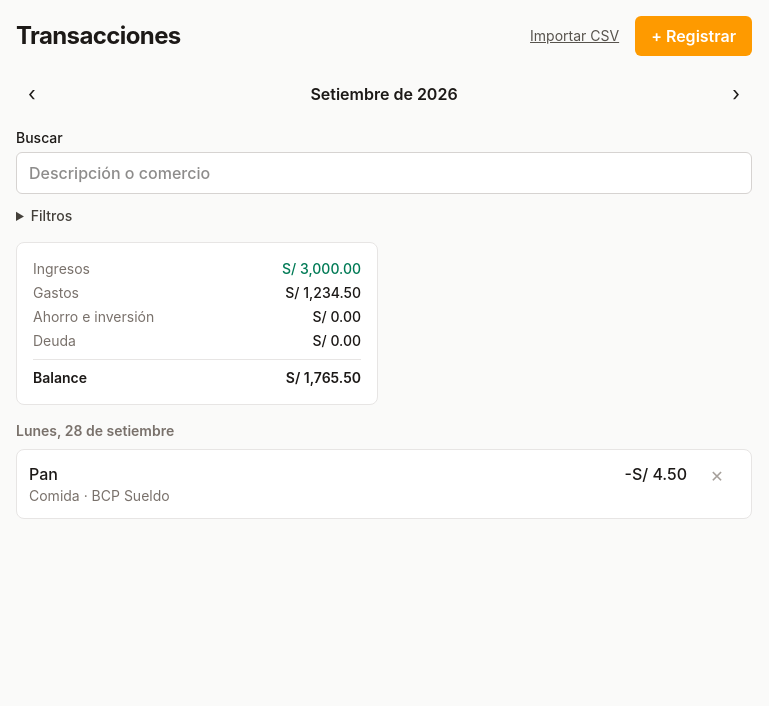
Test case: TransactionsScreen › deletes from the list and offers to undo
Click the button named "Borrar «Pan»": coordinates (717, 476) [695, 454, 739, 498]
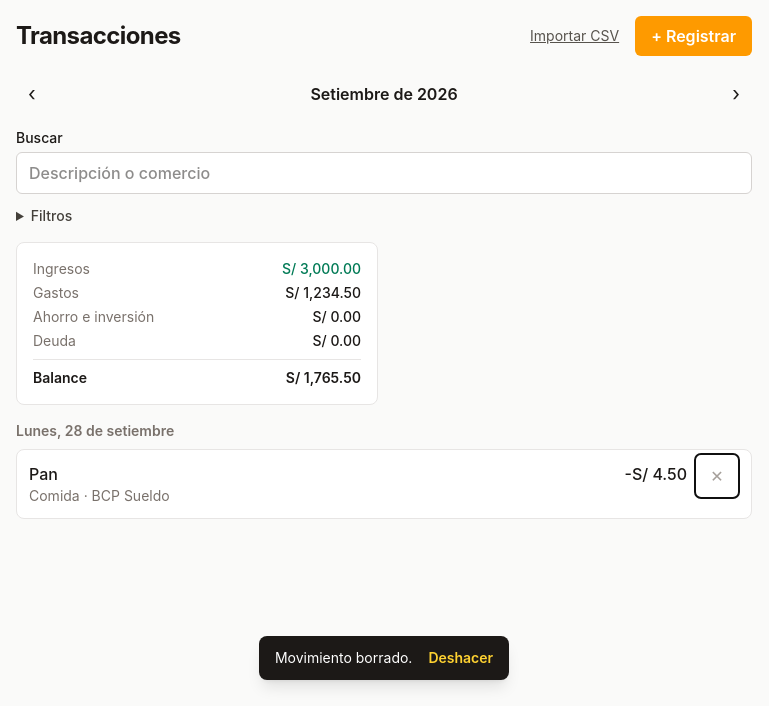
Result: the text "Movimiento borrado." is shown at [275, 648, 412, 668]
